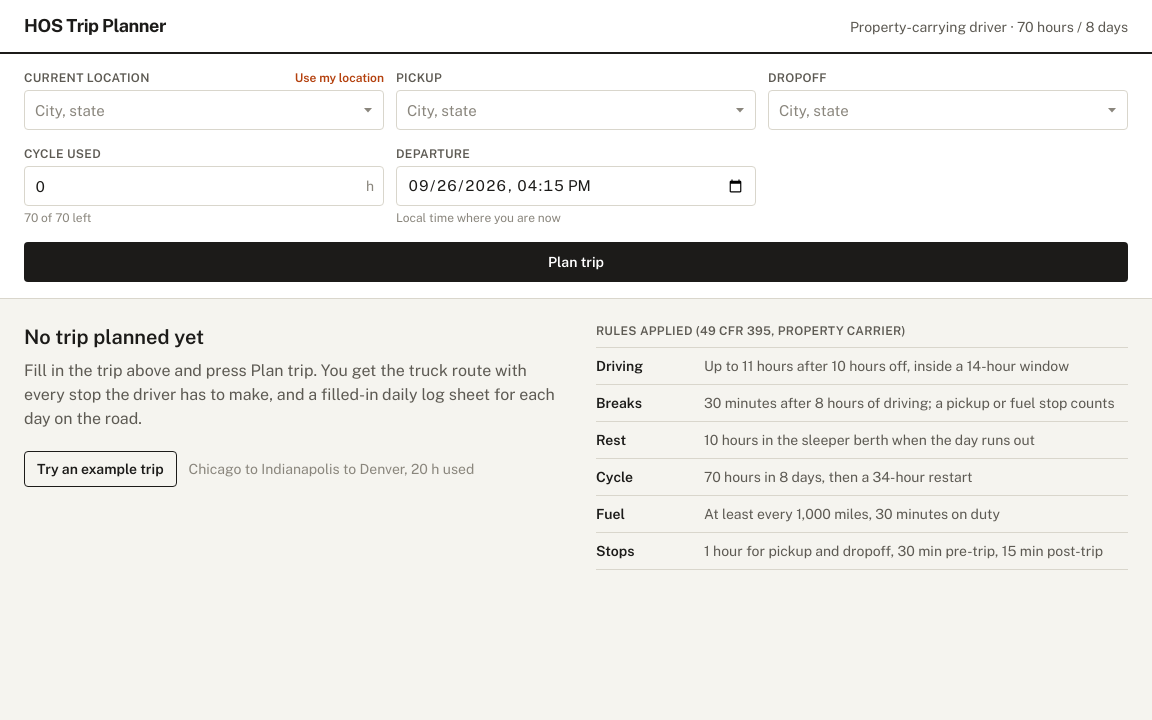
Test: shows server errors in the results panel and on the matching field
Click the button "Try an example trip": click(100, 469) left=24, top=451, right=177, bottom=487
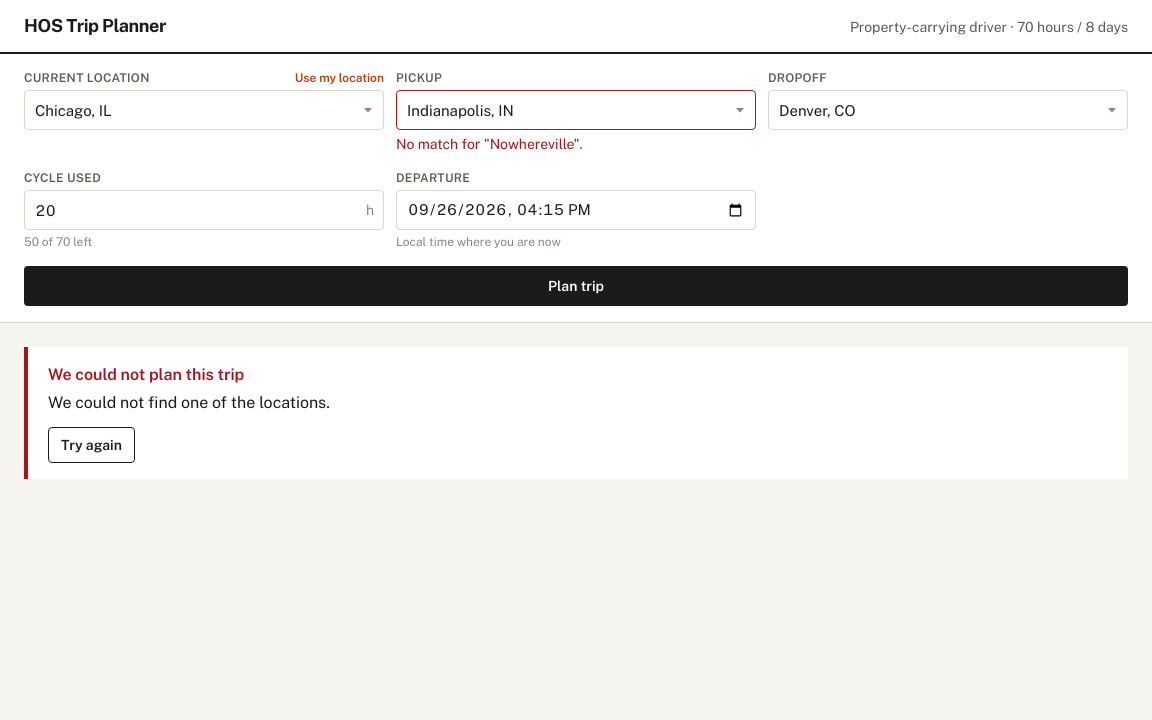
Check: the message shows "We could not find one of the locations.", box left=48, top=393, right=330, bottom=412
Check: the text "No match for \"Nowhereville\"." is shown, box left=396, top=136, right=583, bottom=152
